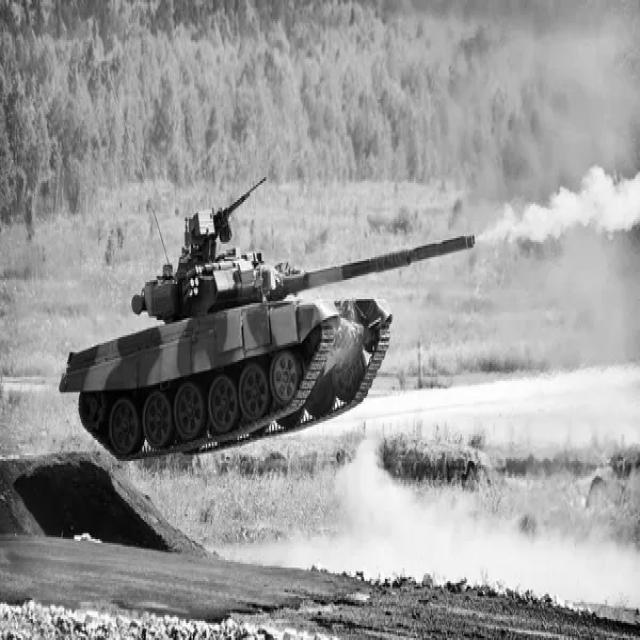Tank: (53, 184, 486, 469)
